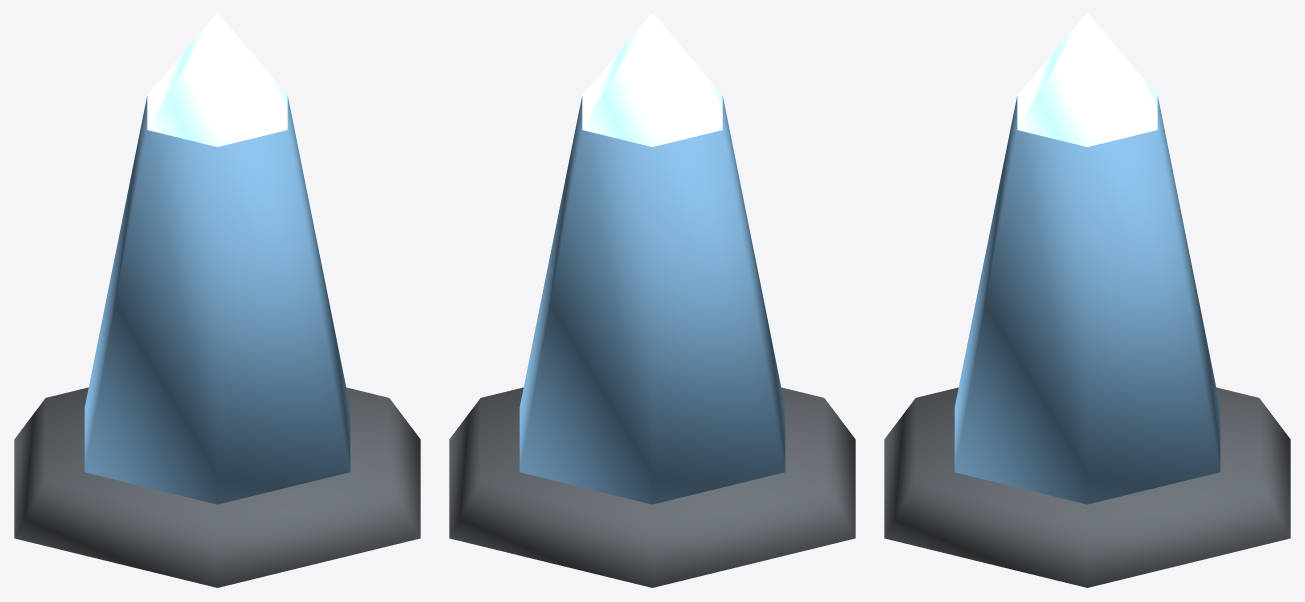
3 renders of one model, left to right at view 1: azimuth 30°, elevation 25°; view 2: azimuth 150°, elevation 25°; view 3: azimuth 270°, elevation 25°, orthographic.
Parts seen in each view (by area): view 1: Generated3DMesh; view 2: Generated3DMesh; view 3: Generated3DMesh.
Boxes of the visible parts, <box> form: Generated3DMesh: <box>14,14,420,587</box>; Generated3DMesh: <box>449,14,855,587</box>; Generated3DMesh: <box>884,14,1290,587</box>.
Size of the model in its own units: 2.6 by 2.9 by 2.25.
